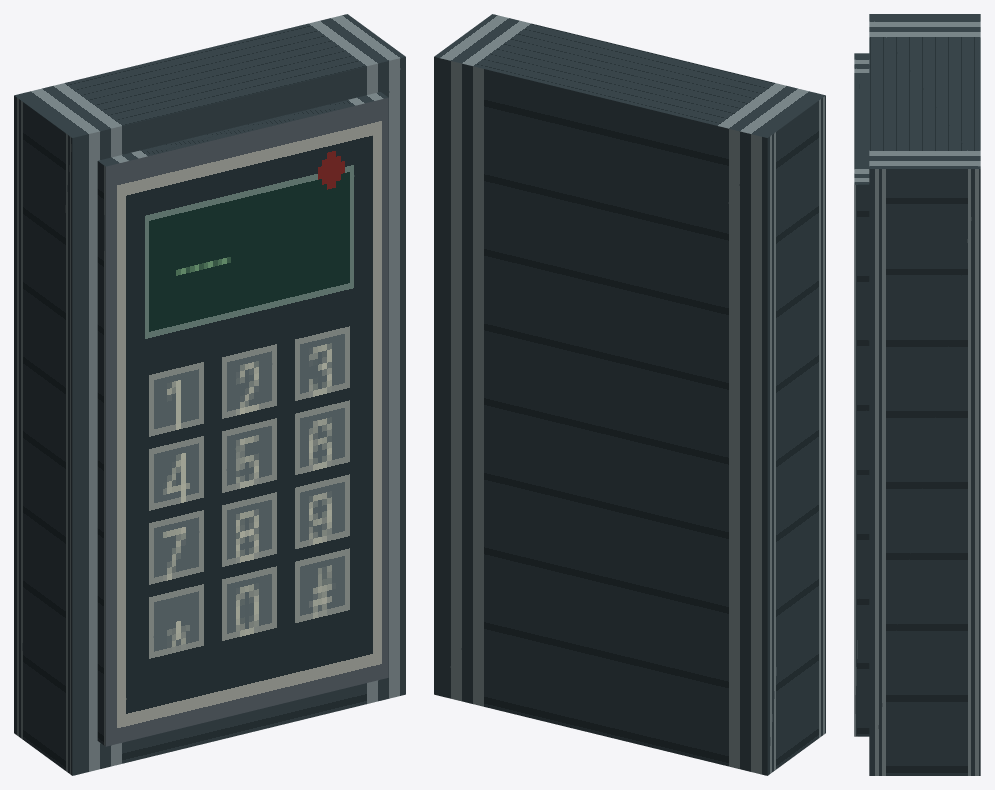
Rendered from teclado_pin.glb.
The picture shows the model from 3 angles, left to right: view 1: azimuth 30°, elevation 25°; view 2: azimuth 150°, elevation 25°; view 3: azimuth 270°, elevation 25°; orthographic projection. The views are drawn at different scales.
Visible parts, largest first — view 1: PANEL_ACCESO; view 2: PANEL_ACCESO; view 3: PANEL_ACCESO.
Boxes of the visible parts, x1=… form: PANEL_ACCESO: x1=14, y1=14, x2=405, y2=775; PANEL_ACCESO: x1=434, y1=14, x2=825, y2=775; PANEL_ACCESO: x1=854, y1=14, x2=980, y2=775.
Size of the model in its own units: 0.145 by 0.265 by 0.05.
Materials: 1 (1 with a texture image).
